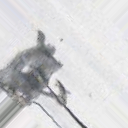crackTip: (19, 70, 90, 128)
